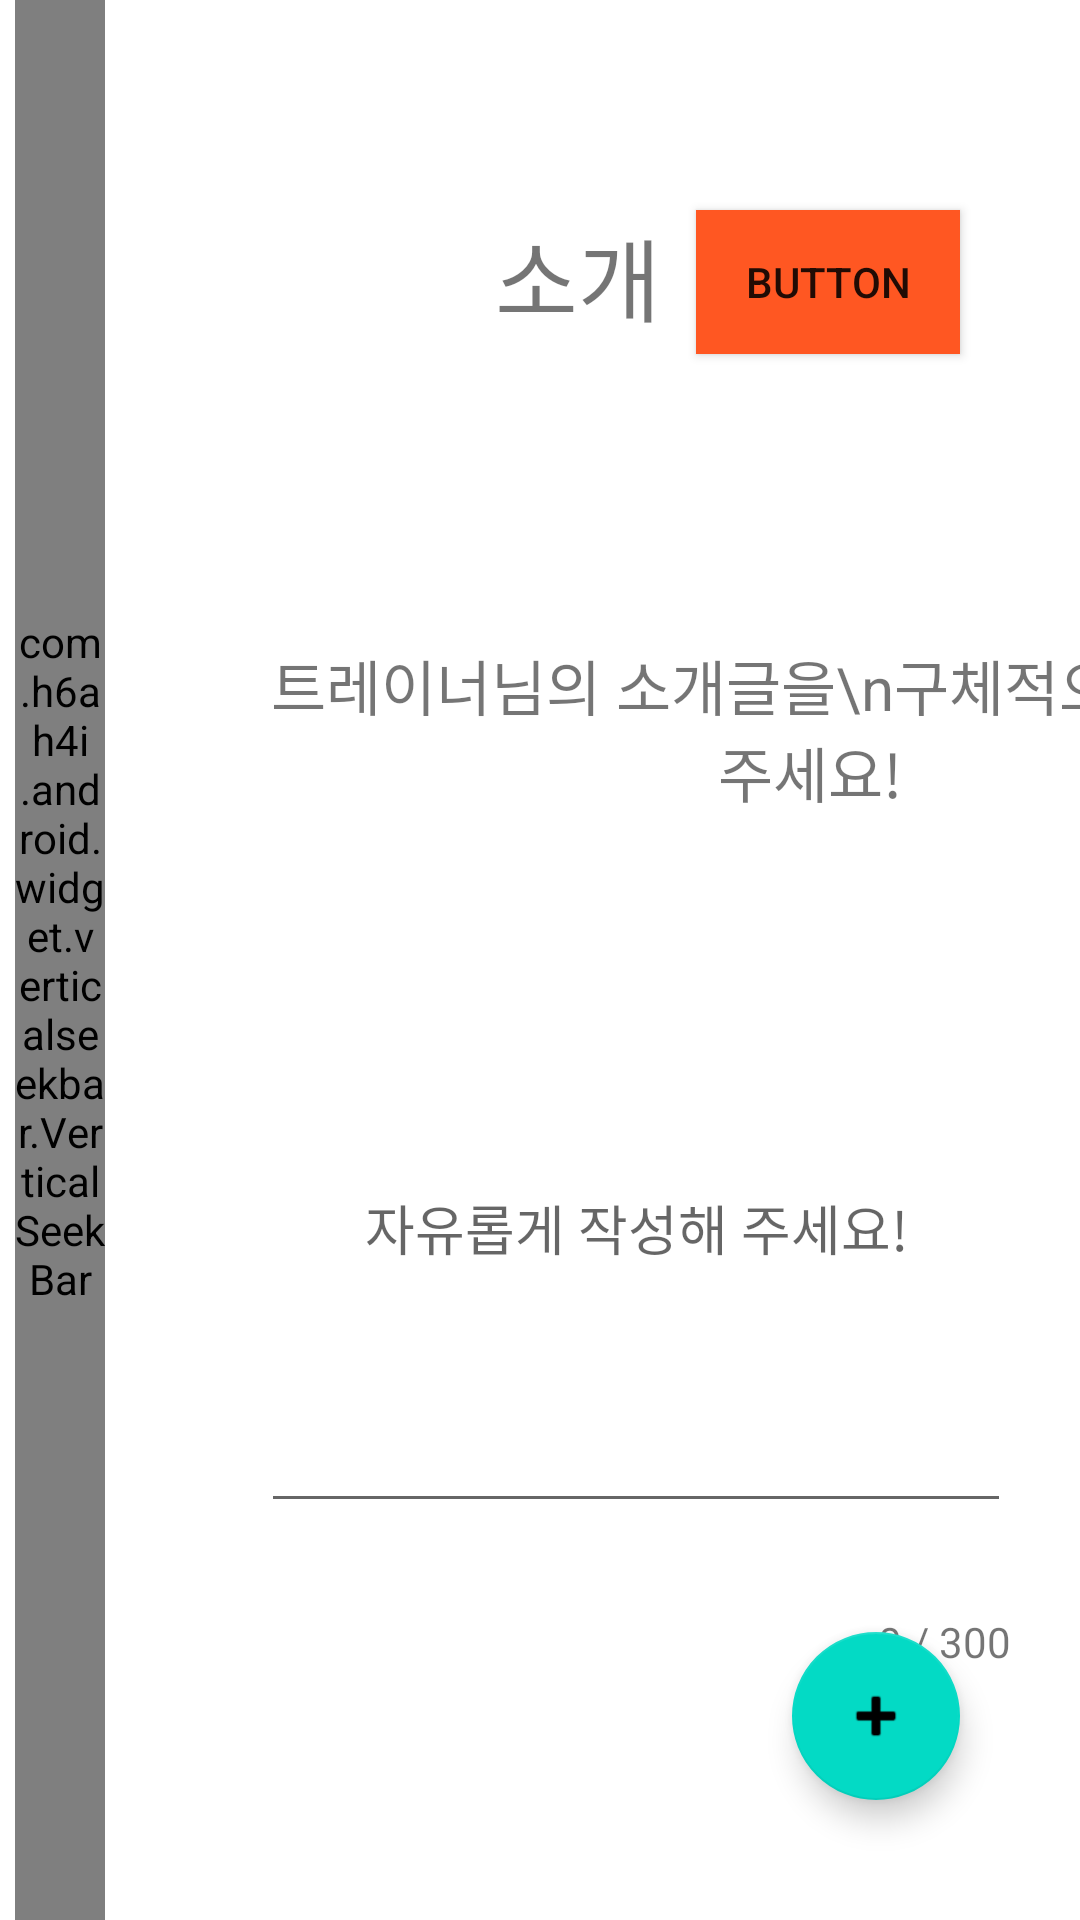

Screen size 1080w x 1920h. Icon name, then its box in pixels as (x1, y1, x2, y2):
add: (792, 1632, 960, 1800)
